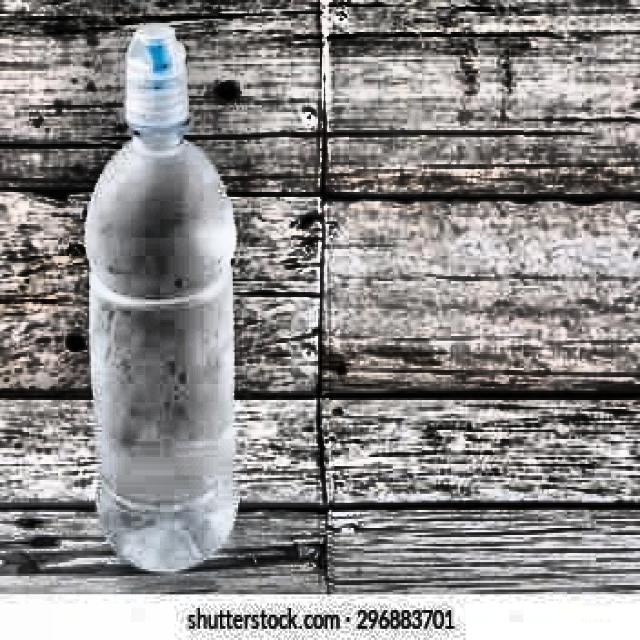Bottles: (81, 22, 245, 577)
